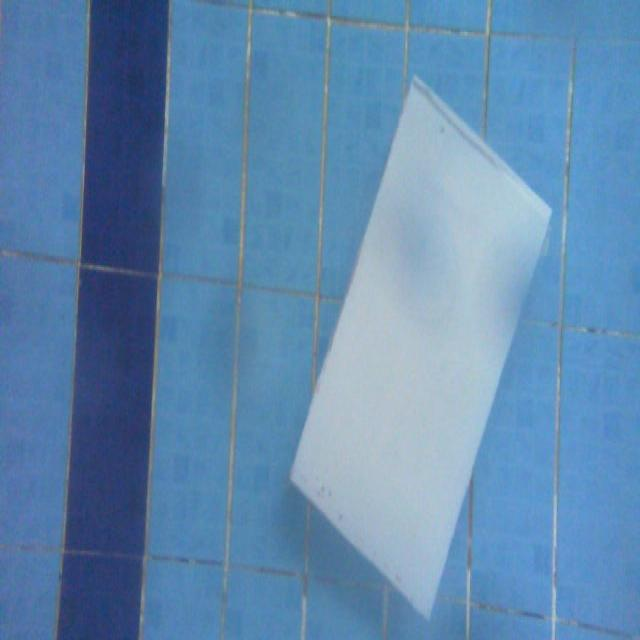Cuboid: (287, 69, 552, 619)
